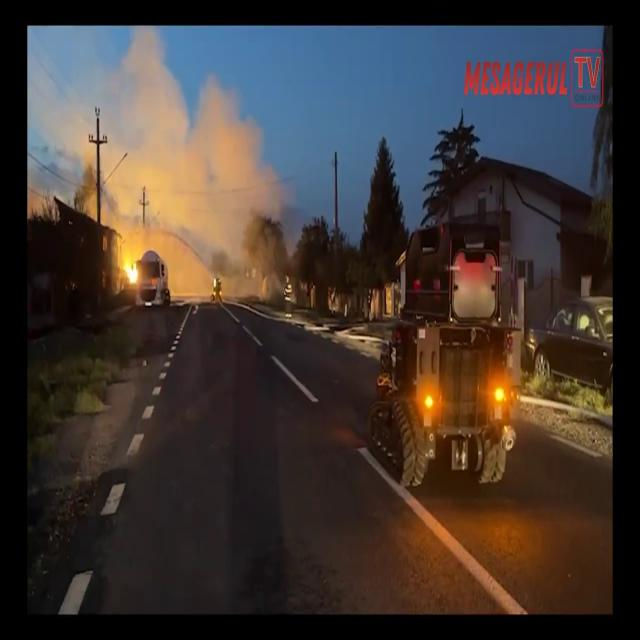smoke: (49, 32, 296, 274)
